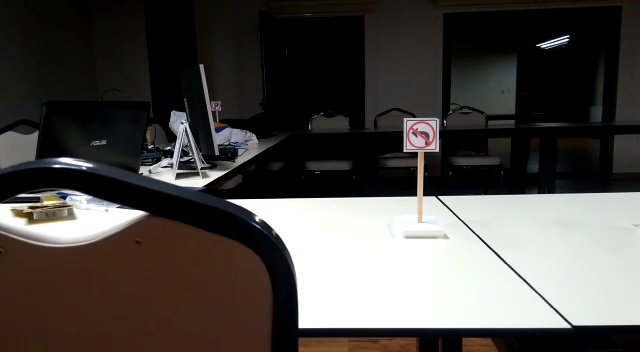sola_donulmez: (400, 114, 437, 148)
